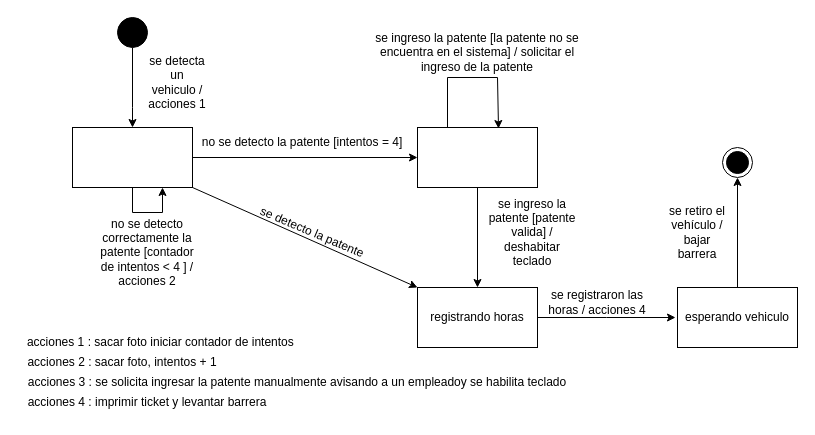
The diagram is 815 pixels wide and 435 high, and some of its shapes have lost their labels. Each missing label, with the centre of its shape:
"detectando patente" goes at point (132, 157).
"esperando ingreso de patente manualmente" goes at point (477, 157).
